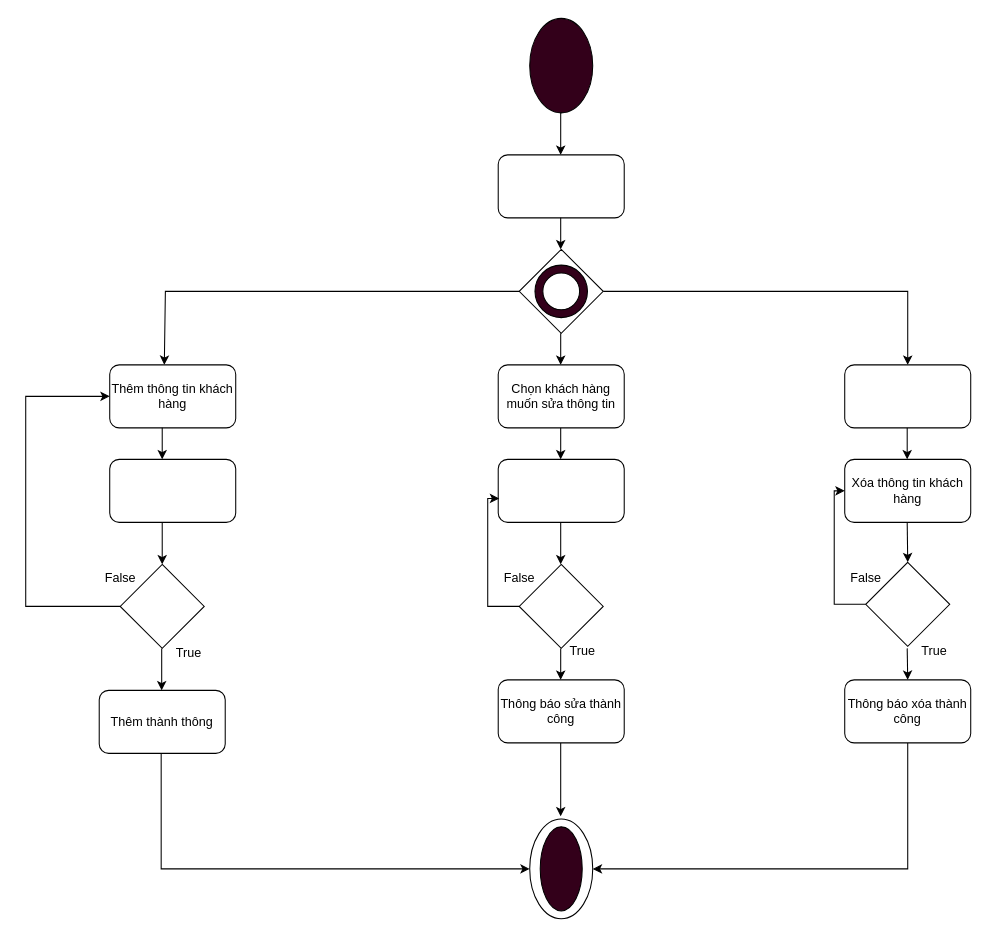
Some shapes in this 989 by 938 pixel diagram are drawn without their labels. Here are the shapes that lost their labels. From the top down, the box of each, then its label:
(497, 154, 624, 218): Hiển thị form khách hàng
(844, 364, 971, 428): Chọn khách hàng muốn xóa
(109, 458, 236, 522): Kiểm tra thông tin
(497, 458, 624, 522): Sửa thông tin khách hàng
